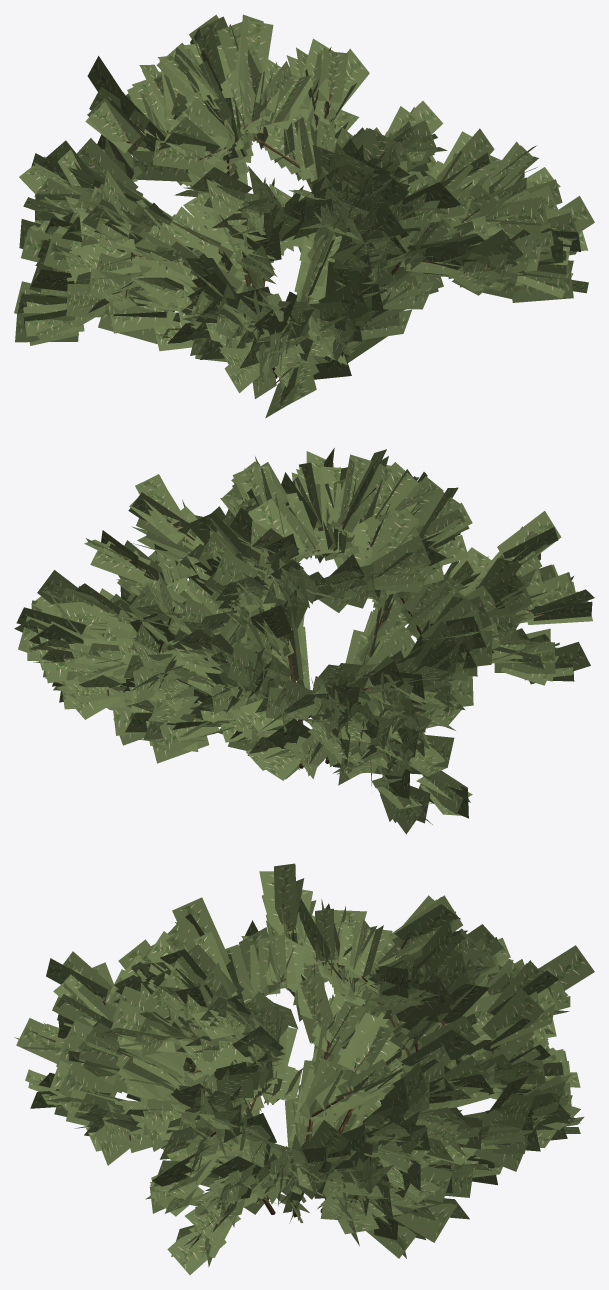
The model's file is thorn_scrub_v01_LOD1.fbx.
3 renders of one model, top to bottom at view 1: azimuth 30°, elevation 25°; view 2: azimuth 150°, elevation 25°; view 3: azimuth 270°, elevation 25°, orthographic. The views are drawn at different scales.
Parts seen in each view (by area): view 1: thorn_scrub_v01_LOD1; view 2: thorn_scrub_v01_LOD1; view 3: thorn_scrub_v01_LOD1.
Part boxes in pixels (x1,y1,x2,y2): thorn_scrub_v01_LOD1: [14, 14, 594, 418]; thorn_scrub_v01_LOD1: [14, 448, 594, 834]; thorn_scrub_v01_LOD1: [14, 863, 594, 1274].
Bounding box in the file's own units: 272 × 150 × 262.
Materials: 2 (2 with a texture image).
